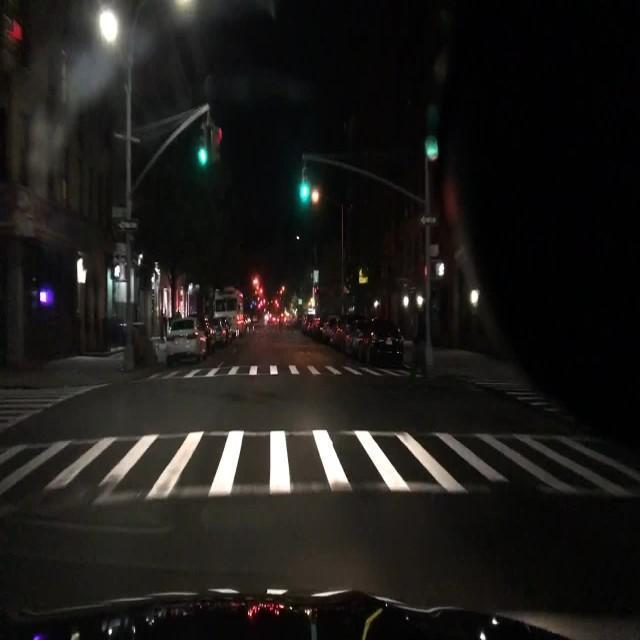normal: (153, 292, 417, 385)
